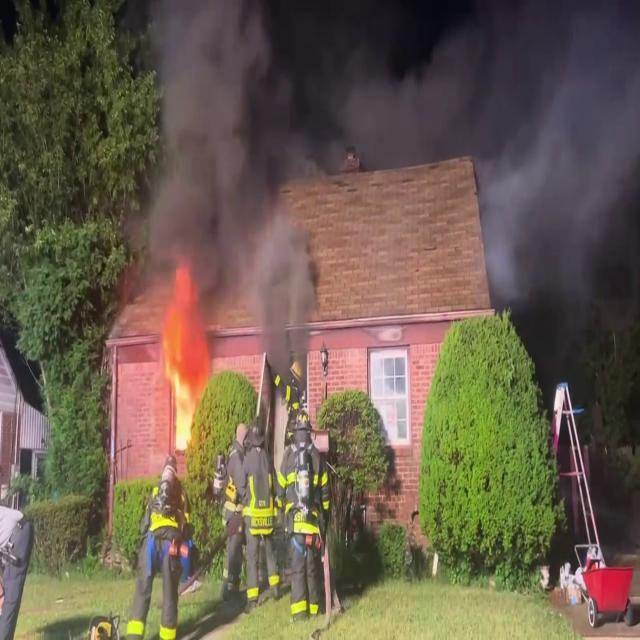Fire: (160, 272, 210, 452)
Smoke: (122, 0, 638, 298)
